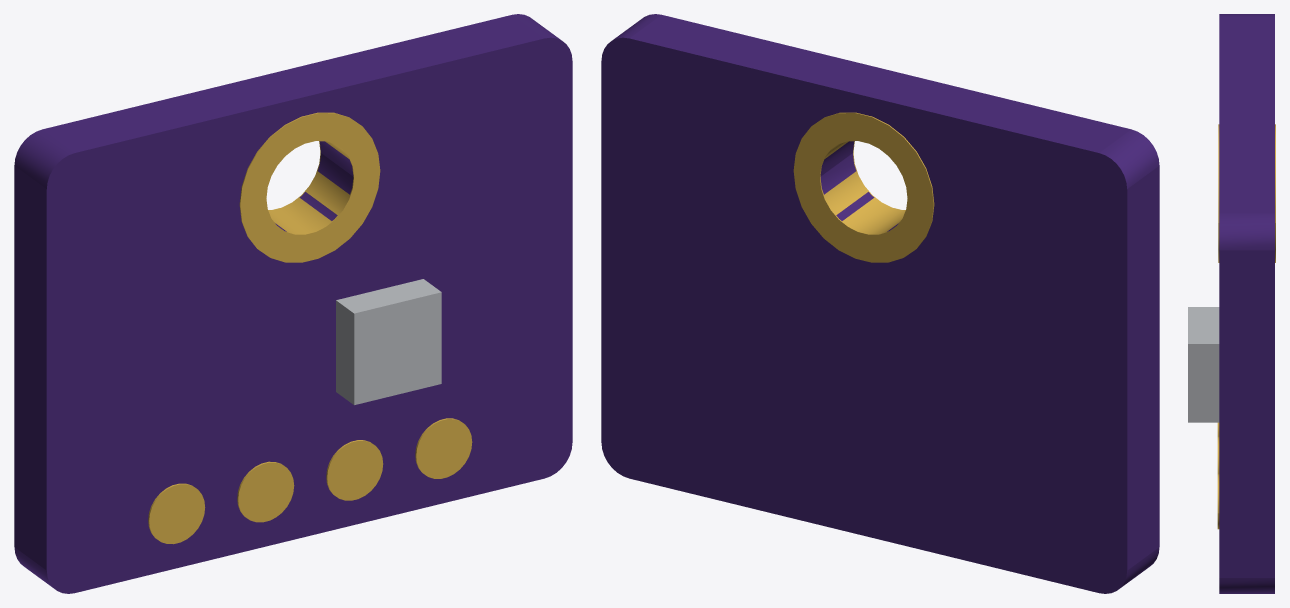
The model's file is bme280.glb.
3 views of the same model, side by side, from view 1: azimuth 30°, elevation 25°; view 2: azimuth 150°, elevation 25°; view 3: azimuth 270°, elevation 25° (orthographic). The views are drawn at different scales.
Visible parts, largest first — view 1: board, hole_1, chip_1, pads_2_2, pads_2_1, pads_2_3, pads_2_4; view 2: board, hole_1; view 3: board, chip_1, hole_1, pads_2_4.
Part boxes in pixels (x1,y1,x2,y2): board: [14, 14, 572, 593]; hole_1: [239, 112, 380, 262]; chip_1: [336, 279, 441, 405]; pads_2_2: [237, 461, 294, 522]; pads_2_1: [148, 483, 205, 544]; pads_2_3: [326, 440, 383, 500]; pads_2_4: [415, 418, 472, 478]; board: [601, 14, 1159, 593]; hole_1: [793, 112, 934, 262]; board: [1219, 14, 1274, 593]; chip_1: [1188, 307, 1219, 422]; hole_1: [1218, 124, 1275, 262]; pads_2_4: [1217, 474, 1219, 529].
Bounding box in the file's own units: 15 × 12 × 2.53.
